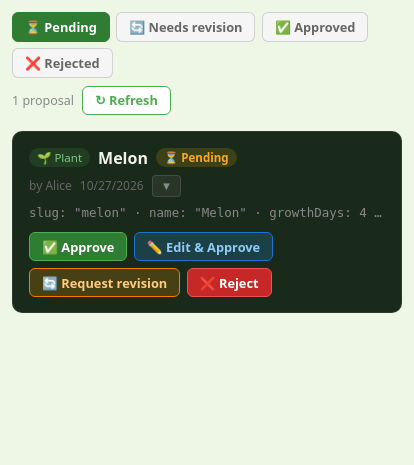
Scenario: ProposalsPanel — proposal card › expands JSON on ▼ click
Expected: the text "Melon" is shown, [98,147,148,169]
What coordinates should you click on to do the following:
click the button "▼"
I would click on:
 (166, 186)
Its box is [152,175,181,197].
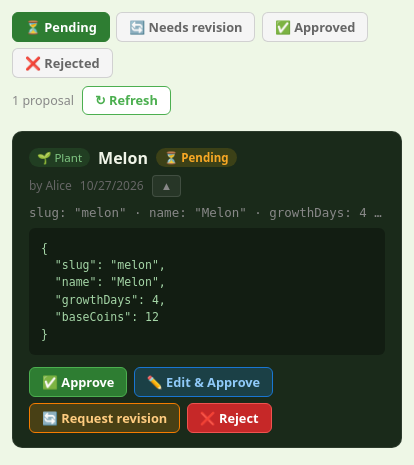
Now the text "\"slug\": \"melon\"" is shown, box [41,241,166,341]
